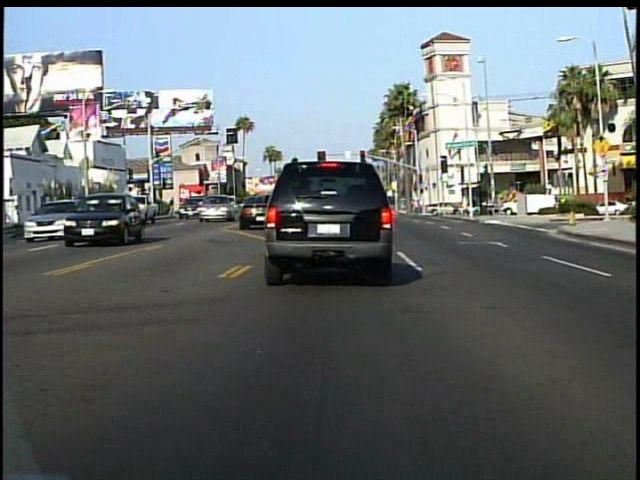person: (166, 195, 178, 222)
